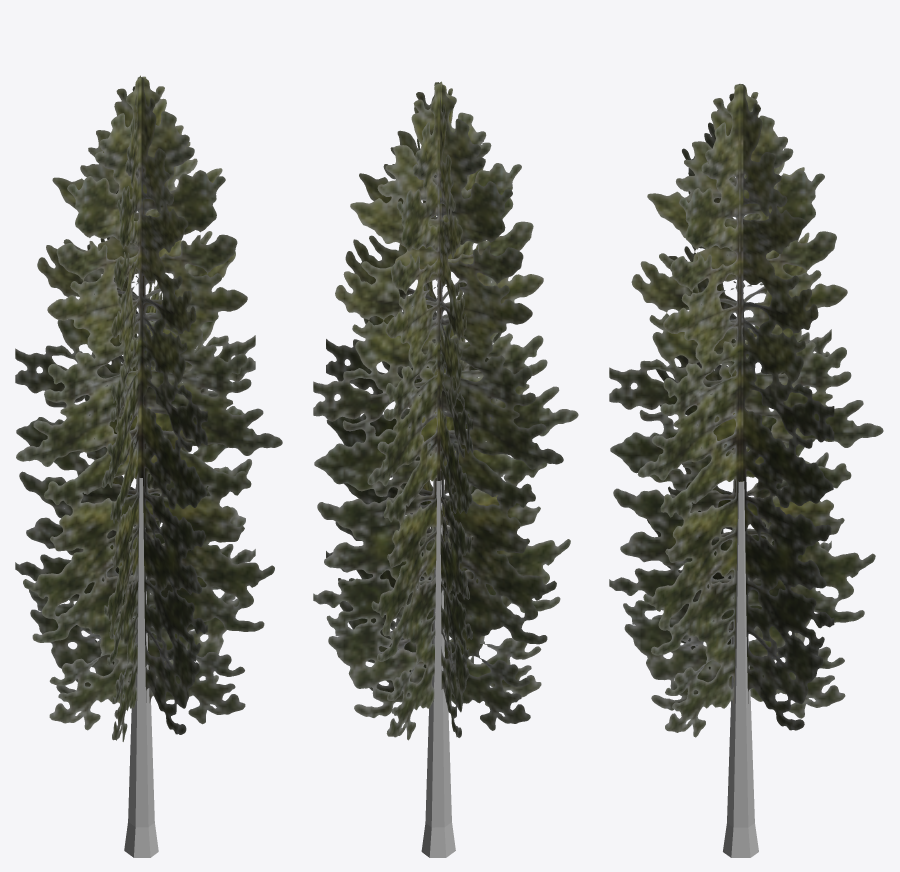
The model's file is Arbol02-d.fbx.
3 views of the same model, side by side, from view 1: azimuth 30°, elevation 25°; view 2: azimuth 150°, elevation 25°; view 3: azimuth 270°, elevation 25° (orthographic).
Visible parts, largest first — view 1: arbol02 D; view 2: arbol02 D; view 3: arbol02 D.
Boxes of the visible parts, <box> form: arbol02 D: <box>15,75,282,857</box>; arbol02 D: <box>313,81,578,857</box>; arbol02 D: <box>609,84,883,857</box>.
Size of the model in its own units: 332 by 1028 by 332.
